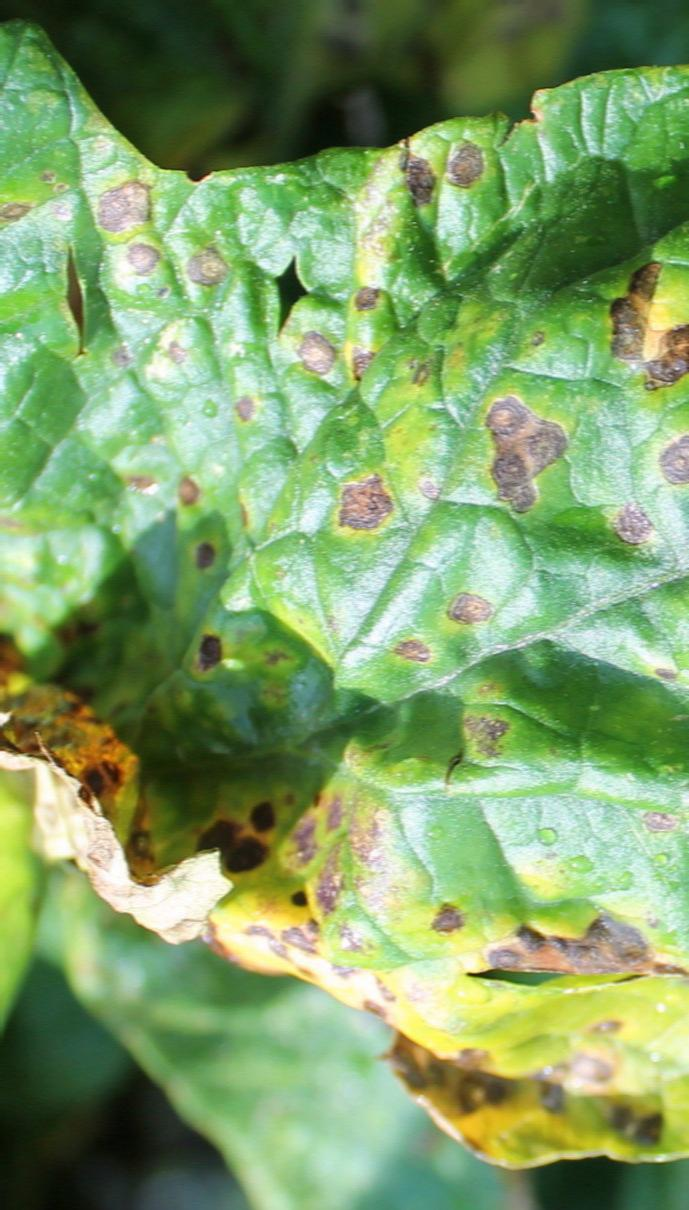Tomato Septoria leaf spot: (0, 0, 689, 1174)
